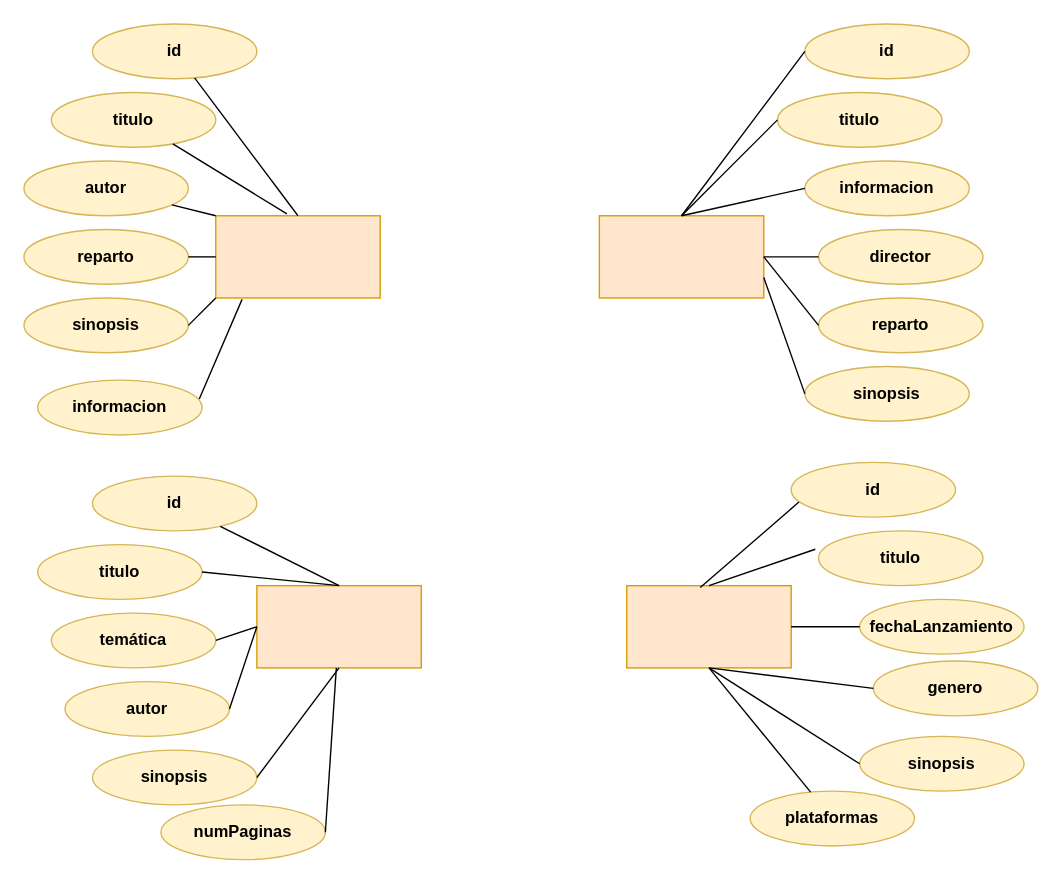
This 1062x884 diagram has some shape labels left out. Each missing label, with the centre of its shape:
LIBRO: pixel 338 626
PELICULA: pixel 297 256
SERIE: pixel 681 256
VIDEOJUEGO: pixel 708 626
